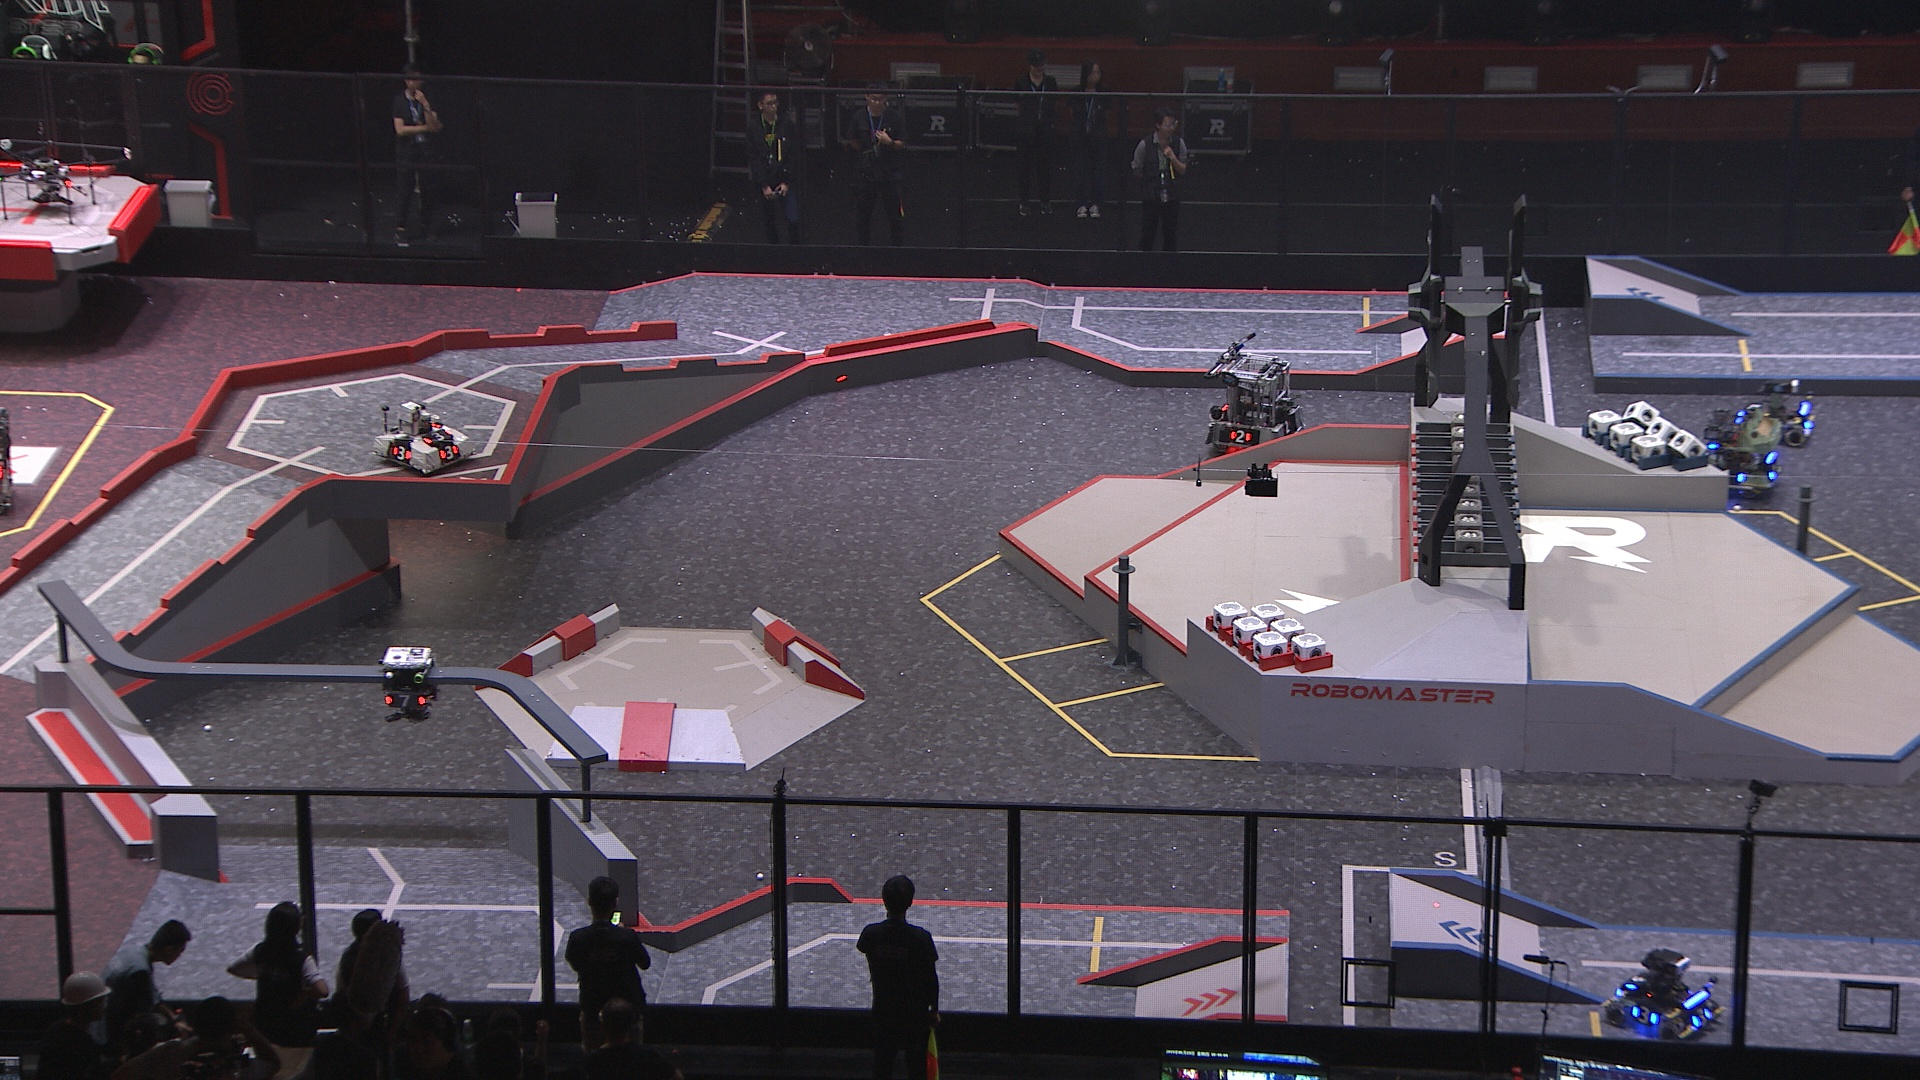armor: (381, 690, 430, 711), (1629, 1001, 1662, 1030), (1688, 1002, 1716, 1030), (422, 425, 455, 446), (1623, 972, 1648, 996), (1228, 425, 1254, 447), (386, 442, 413, 463), (1276, 415, 1299, 436), (436, 444, 462, 462), (1746, 398, 1764, 414)
car: (1604, 940, 1727, 1044), (1207, 348, 1309, 452), (1689, 396, 1787, 505), (371, 398, 475, 475), (1742, 378, 1818, 446)
watcher: (375, 641, 438, 727)
